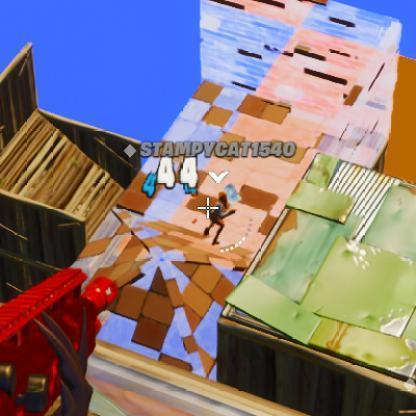person: (210, 192, 233, 249)
